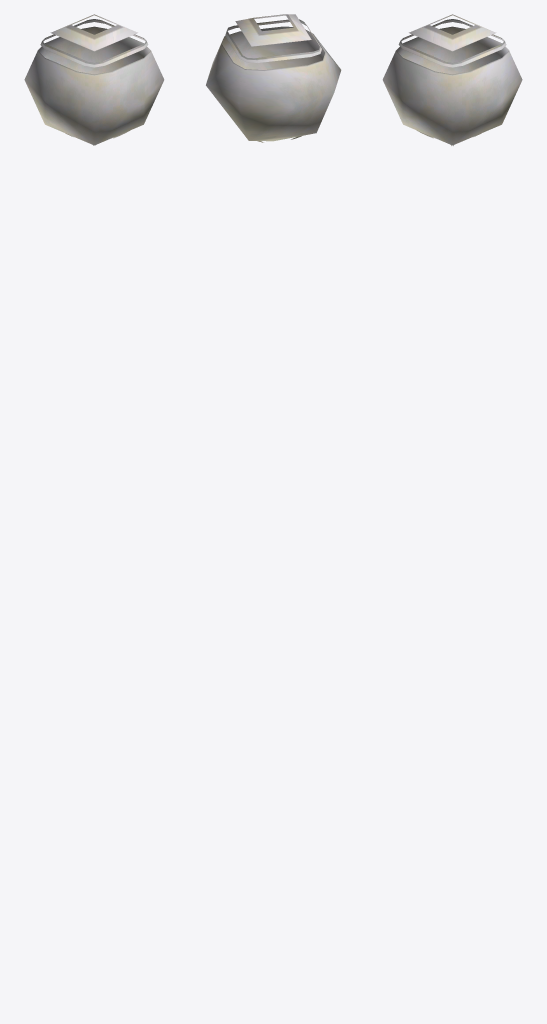
The model's file is mun_all_imprv_streetlamp_sm_s02_l2.fbx.
The picture shows the model from 3 angles, left to right: view 1: azimuth 90°, elevation 25°; view 2: azimuth 150°, elevation 25°; view 3: azimuth 270°, elevation 25°; orthographic projection.
Visible parts, largest first — view 1: mesh_node; view 2: mesh_node; view 3: mesh_node.
Part boxes in pixels (left/top/right/bottom): mesh_node: left=24, top=14, right=164, bottom=145; mesh_node: left=206, top=14, right=341, bottom=142; mesh_node: left=382, top=14, right=522, bottom=145.
Size of the model in its own units: 0.3109 by 2.11 by 0.3098.
1 material, 1 textured.
